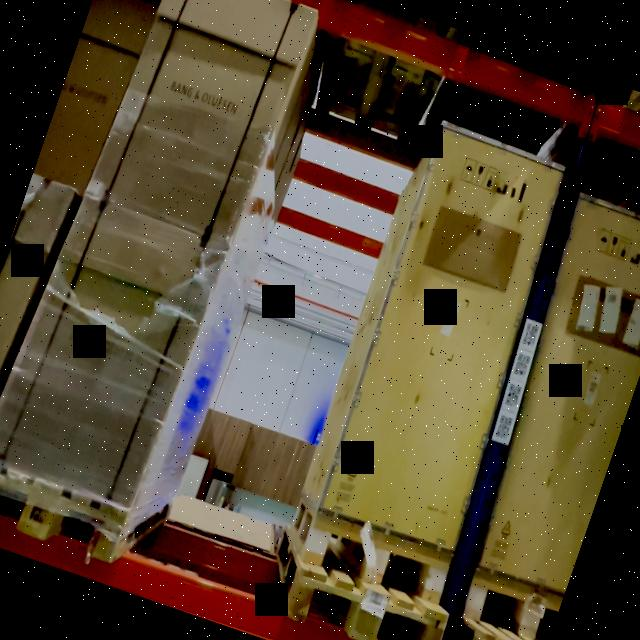box: (320, 132, 563, 540), (0, 202, 218, 506), (97, 0, 312, 240)
